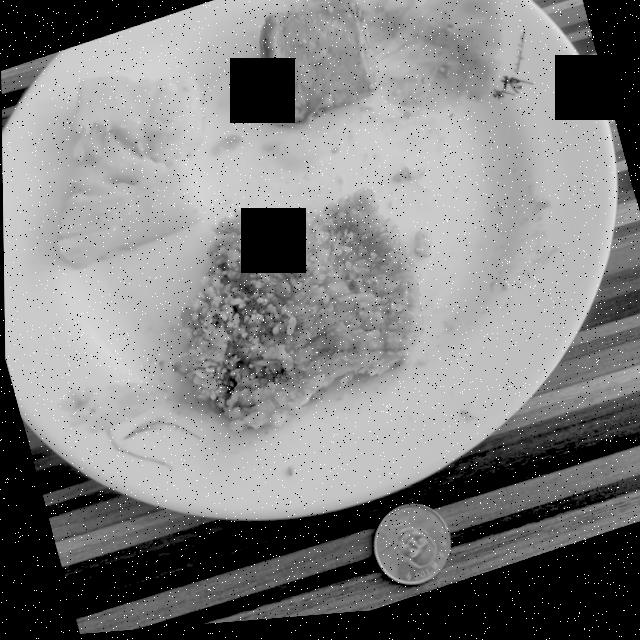coin: (372, 510, 448, 592)
creamy tofu: (259, 3, 379, 131)
fried chicken cutlet: (172, 194, 422, 435)
pineapple: (57, 78, 204, 269)
